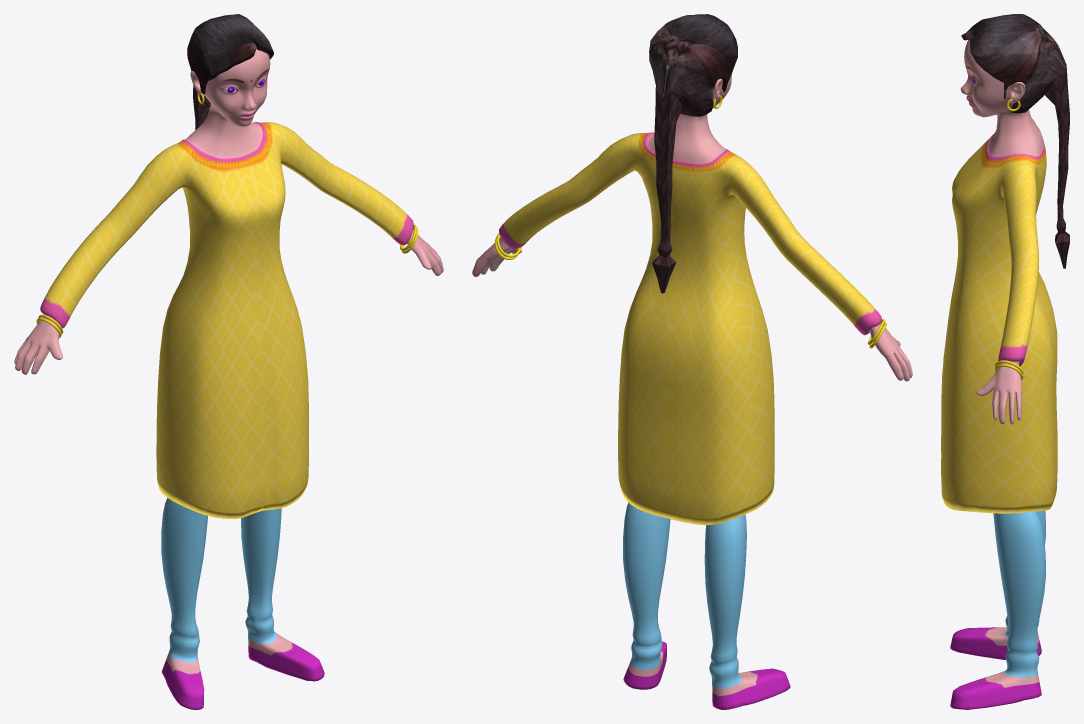
The model's file is Lady Character_01.FBX.
3 views of the same model, side by side, from view 1: azimuth 30°, elevation 25°; view 2: azimuth 150°, elevation 25°; view 3: azimuth 270°, elevation 25° (orthographic). The views are drawn at different scales.
Visible parts, largest first — view 1: Line005; view 2: Line005; view 3: Line005.
Boxes of the visible parts, left/top/right/bottom form: Line005: left=14, top=14, right=443, bottom=709; Line005: left=472, top=14, right=912, bottom=709; Line005: left=941, top=14, right=1069, bottom=709.
Bounding box in the file's own units: 44.71 × 65.69 × 11.65.
